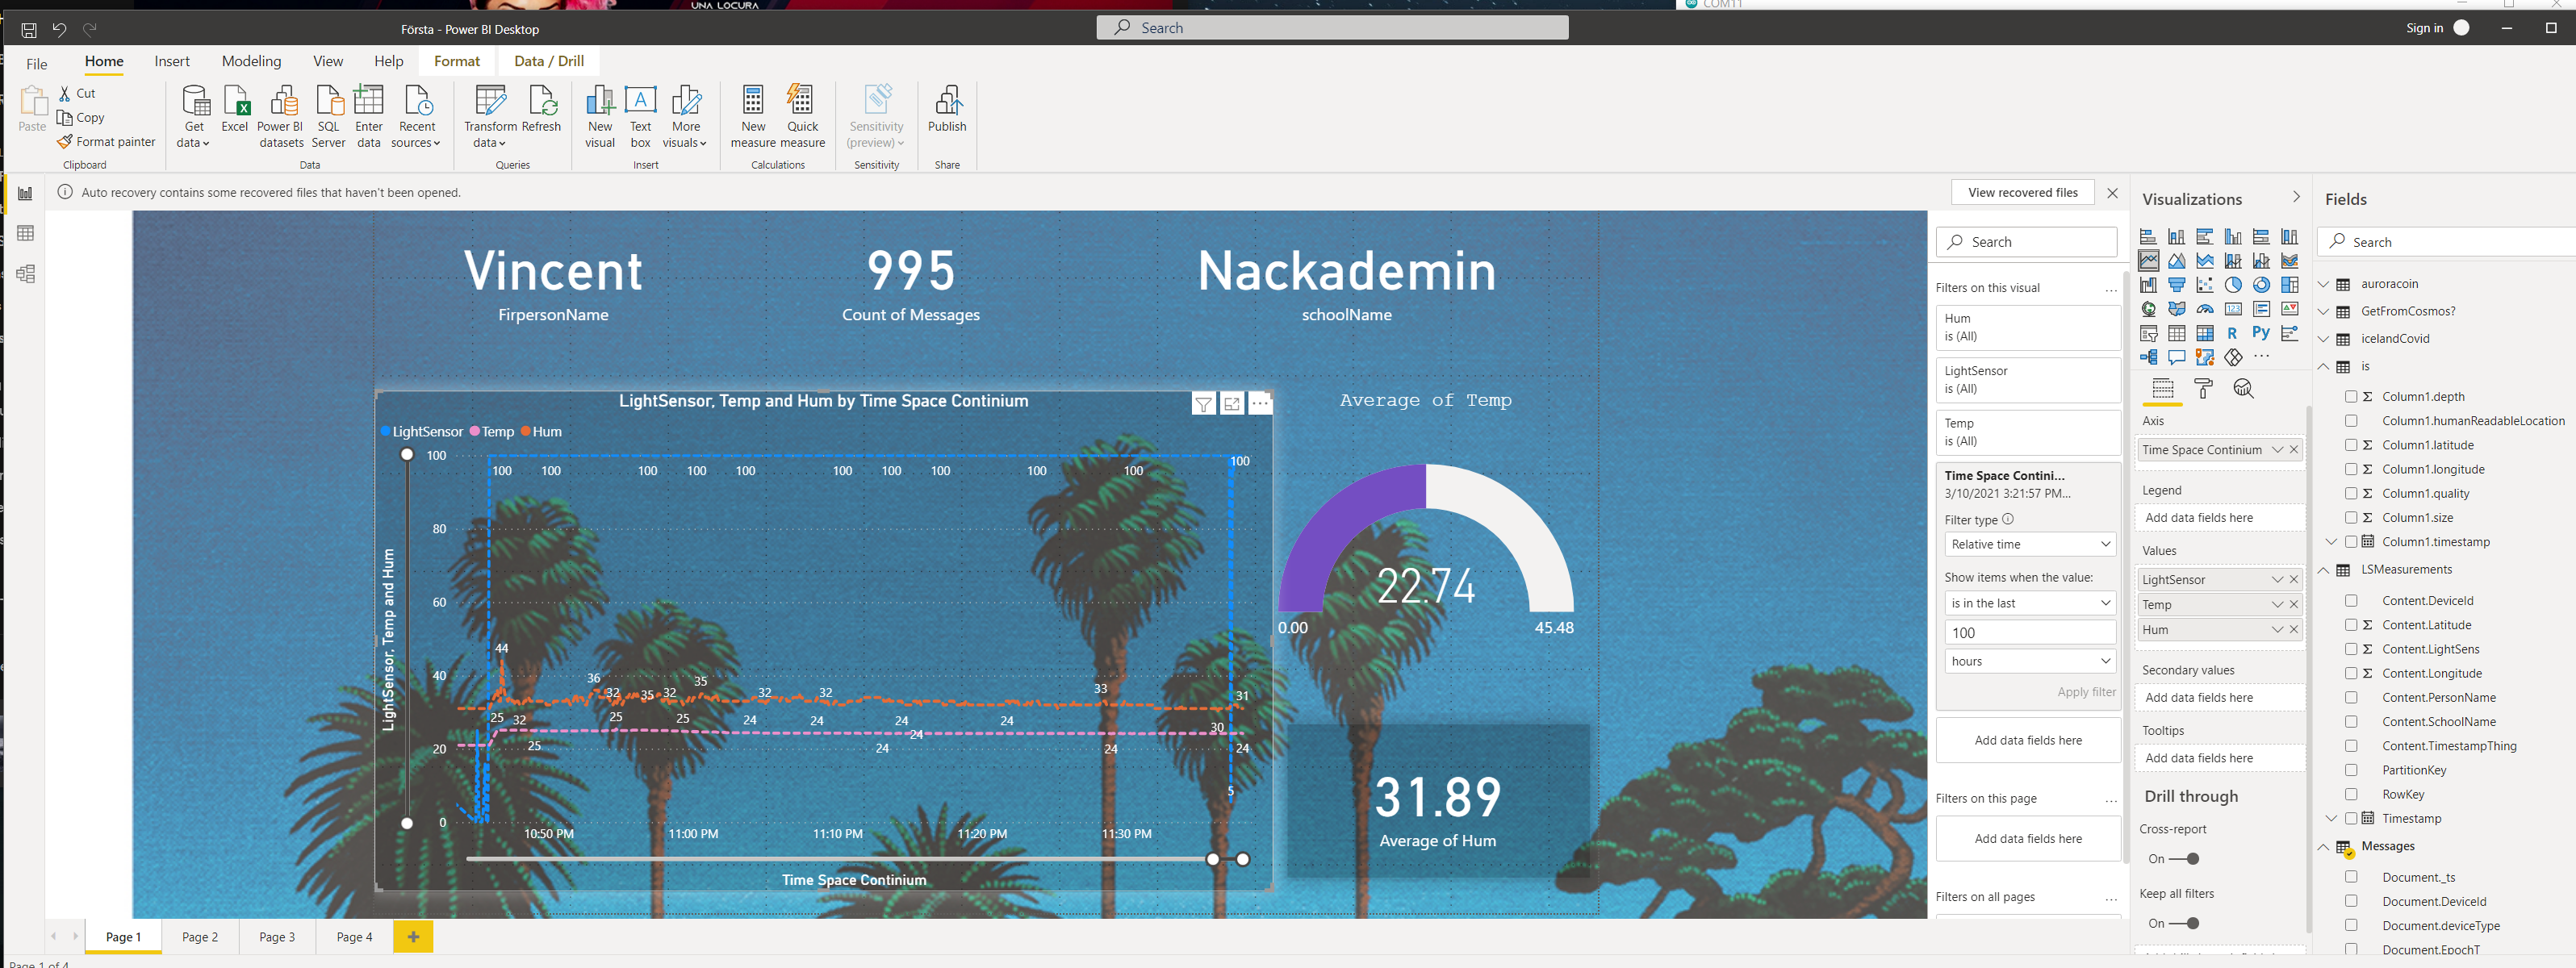

The page's visual inventory and layout, read from the dashboard file:
{"tool":"powerbi","page":{"name":"Page 1","canvas":[1280,720],"ordinal":0},"visuals":[{"type":"lineChart","fields":{"Y":["Avg(Messages.LS)","Avg(Messages.Temp)","Avg(Messages.Hum)"],"Category":["Messages.Time Space Continium"]},"box":[17.7,206.8,882.5,492.5],"z":0},{"type":"gauge","fields":{"Y":["Avg(Messages.Temp)"]},"box":[931.8,206.8,299.4,299.4],"z":1000},{"type":"card","fields":{"Values":["Count(Messages)"]},"box":[333.9,17.7,612.6,149.7],"z":2000},{"type":"card","fields":{"Values":["Avg(Messages.Hum)"]},"box":[935.7,478.7,295.5,149.7],"z":3000}]}

Visuals, with their boxes on the page's 1280x720 design canvas (x1, y1, x2, y2). These are canvas units, not pixel positions in the 2576x968 screenshot, which may show the page scaled, cropped or inside an application window:
lineChart - Avg(Messages.LS) x Avg(Messages.Temp): rect(18, 207, 900, 699)
gauge - Avg(Messages.Temp): rect(932, 207, 1231, 506)
card - Count(Messages): rect(334, 18, 946, 167)
card - Avg(Messages.Hum): rect(936, 479, 1231, 628)
